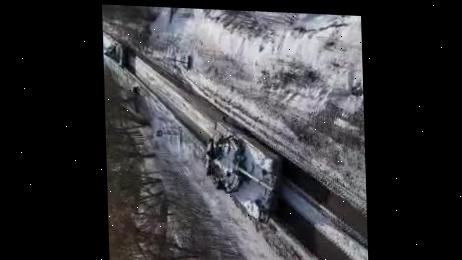tank: (200, 119, 285, 225), (102, 37, 128, 70)
